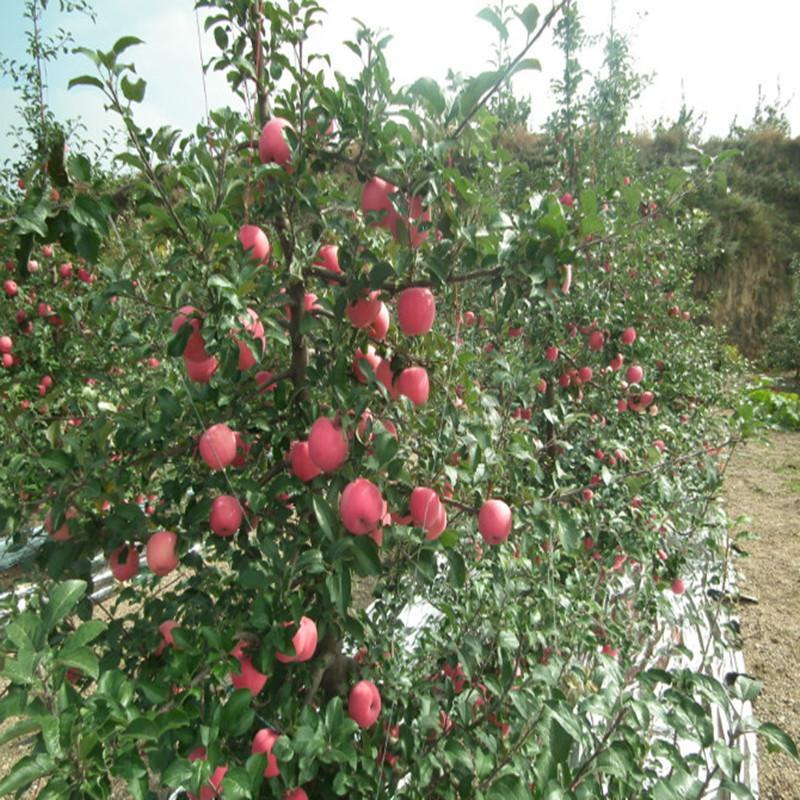apple: (337, 478, 384, 534), (309, 418, 356, 474), (196, 424, 242, 470), (346, 295, 389, 341), (396, 287, 436, 336), (257, 117, 294, 165), (346, 680, 380, 728), (208, 495, 243, 535), (107, 542, 141, 583), (410, 489, 444, 529), (479, 501, 513, 541), (145, 531, 177, 573), (239, 226, 270, 265), (401, 367, 430, 403)
